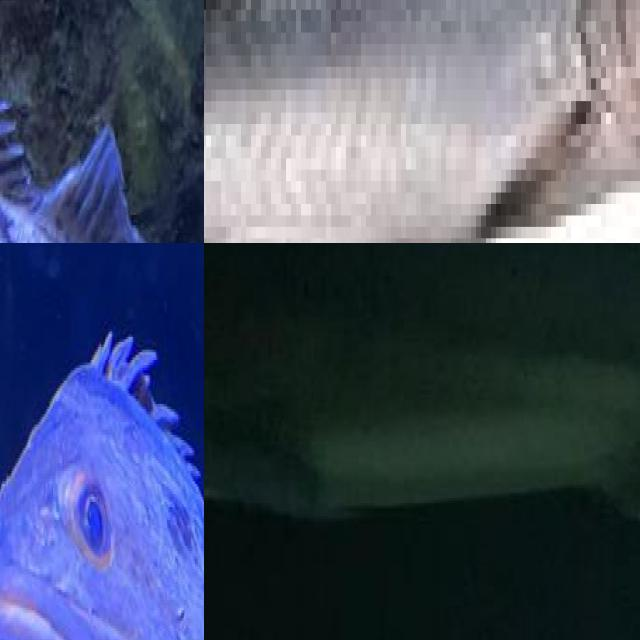fish: (204, 243, 640, 555), (204, 0, 640, 243), (0, 298, 204, 640), (0, 0, 204, 243)
